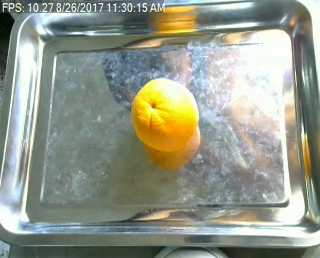Orange: (131, 76, 199, 151)
